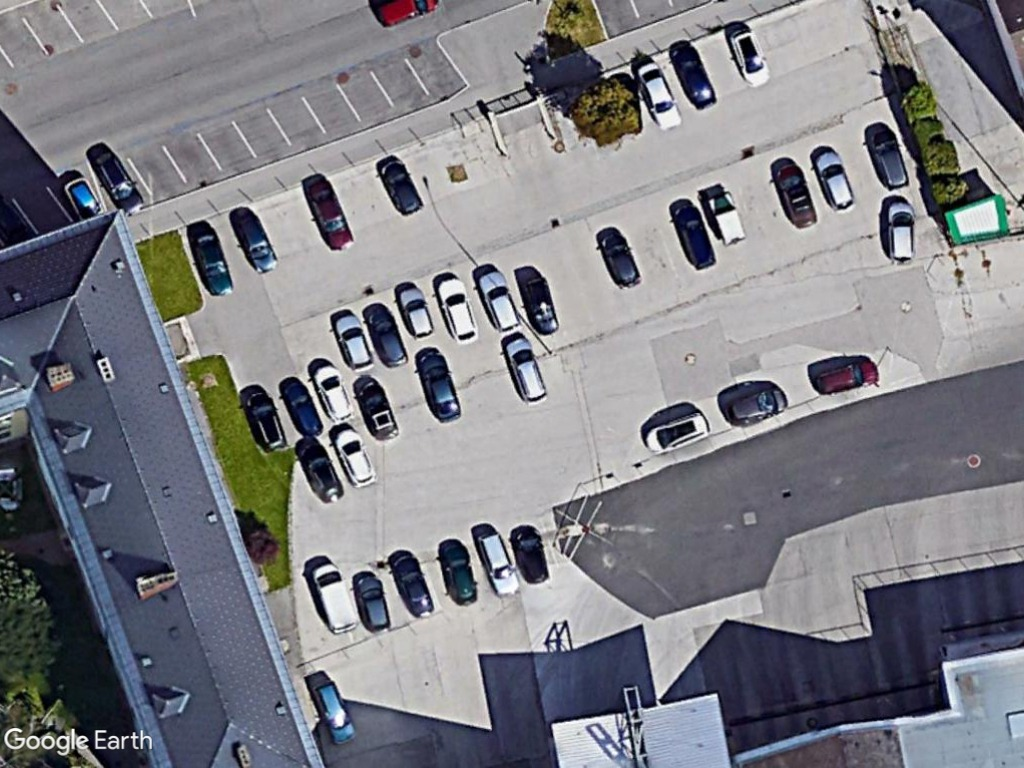car: (302, 178, 355, 253), (632, 57, 682, 133), (188, 223, 237, 299), (498, 331, 547, 406), (415, 346, 462, 424), (642, 409, 713, 459), (671, 40, 720, 112), (94, 149, 145, 217), (434, 270, 479, 347), (389, 550, 437, 621), (361, 299, 409, 369), (353, 374, 400, 444), (308, 679, 357, 746), (671, 201, 717, 272), (772, 162, 820, 230), (473, 528, 520, 597), (477, 264, 522, 334), (438, 539, 483, 609), (235, 206, 280, 275), (726, 24, 772, 90), (868, 124, 912, 193), (811, 356, 883, 398), (598, 227, 645, 291), (245, 388, 289, 455), (300, 439, 344, 506), (276, 377, 324, 438), (723, 385, 791, 428), (376, 156, 423, 217), (331, 424, 376, 487), (311, 361, 355, 424), (519, 272, 560, 339), (813, 149, 855, 214), (331, 313, 374, 375), (511, 523, 550, 586), (396, 282, 436, 343), (883, 198, 918, 266), (353, 572, 390, 635)
van: (309, 561, 360, 638)
